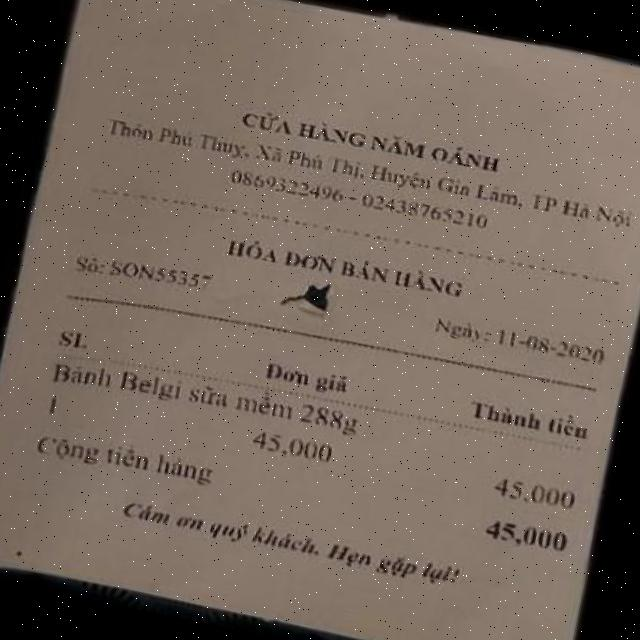Date: (488, 315, 622, 379)
Store_Name: (211, 90, 511, 181)
amount_number: (474, 506, 584, 566)
label_total: (29, 419, 222, 500)
